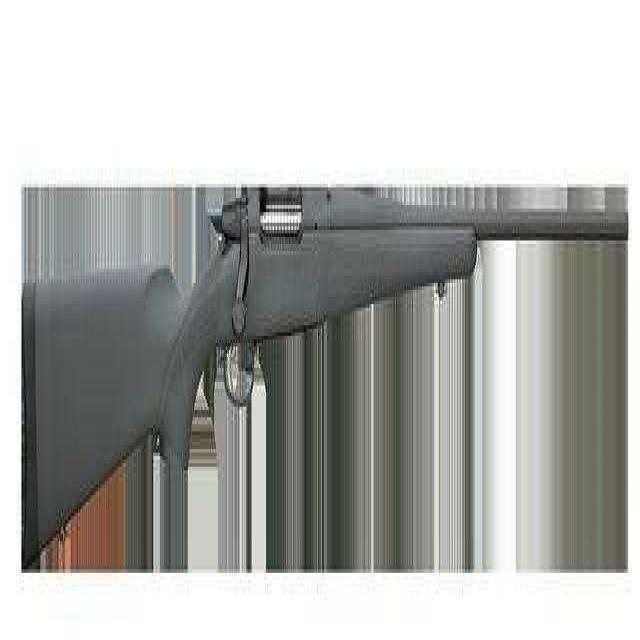weapon: (10, 166, 631, 576)
